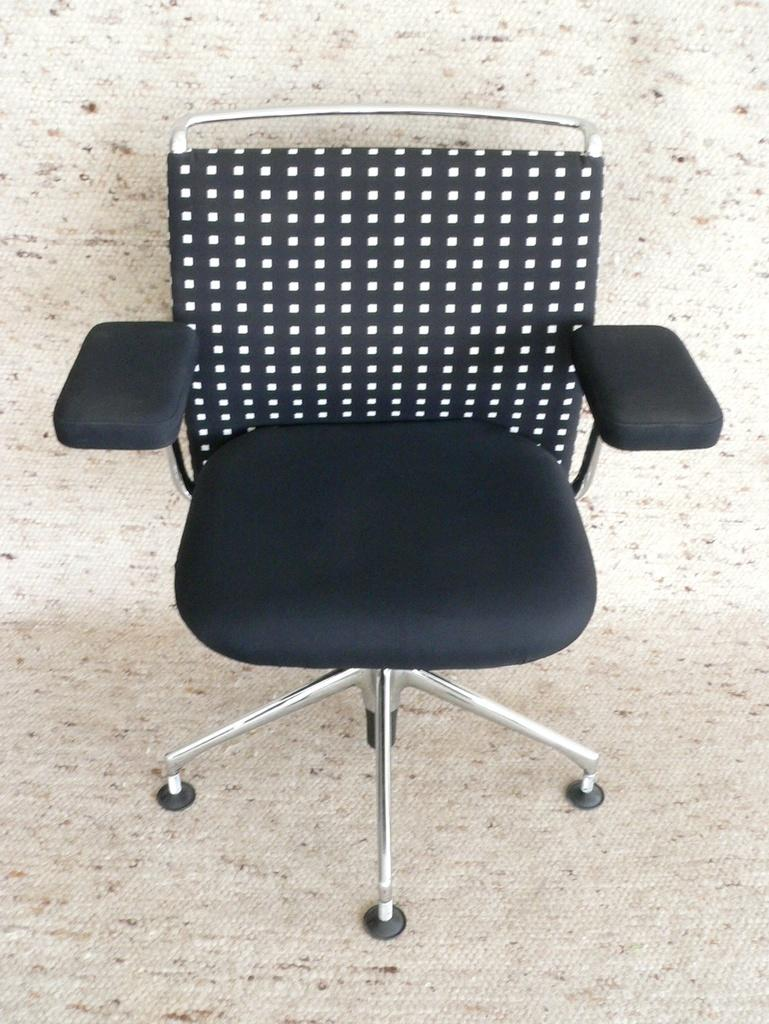Chair: (55, 99, 719, 935)
